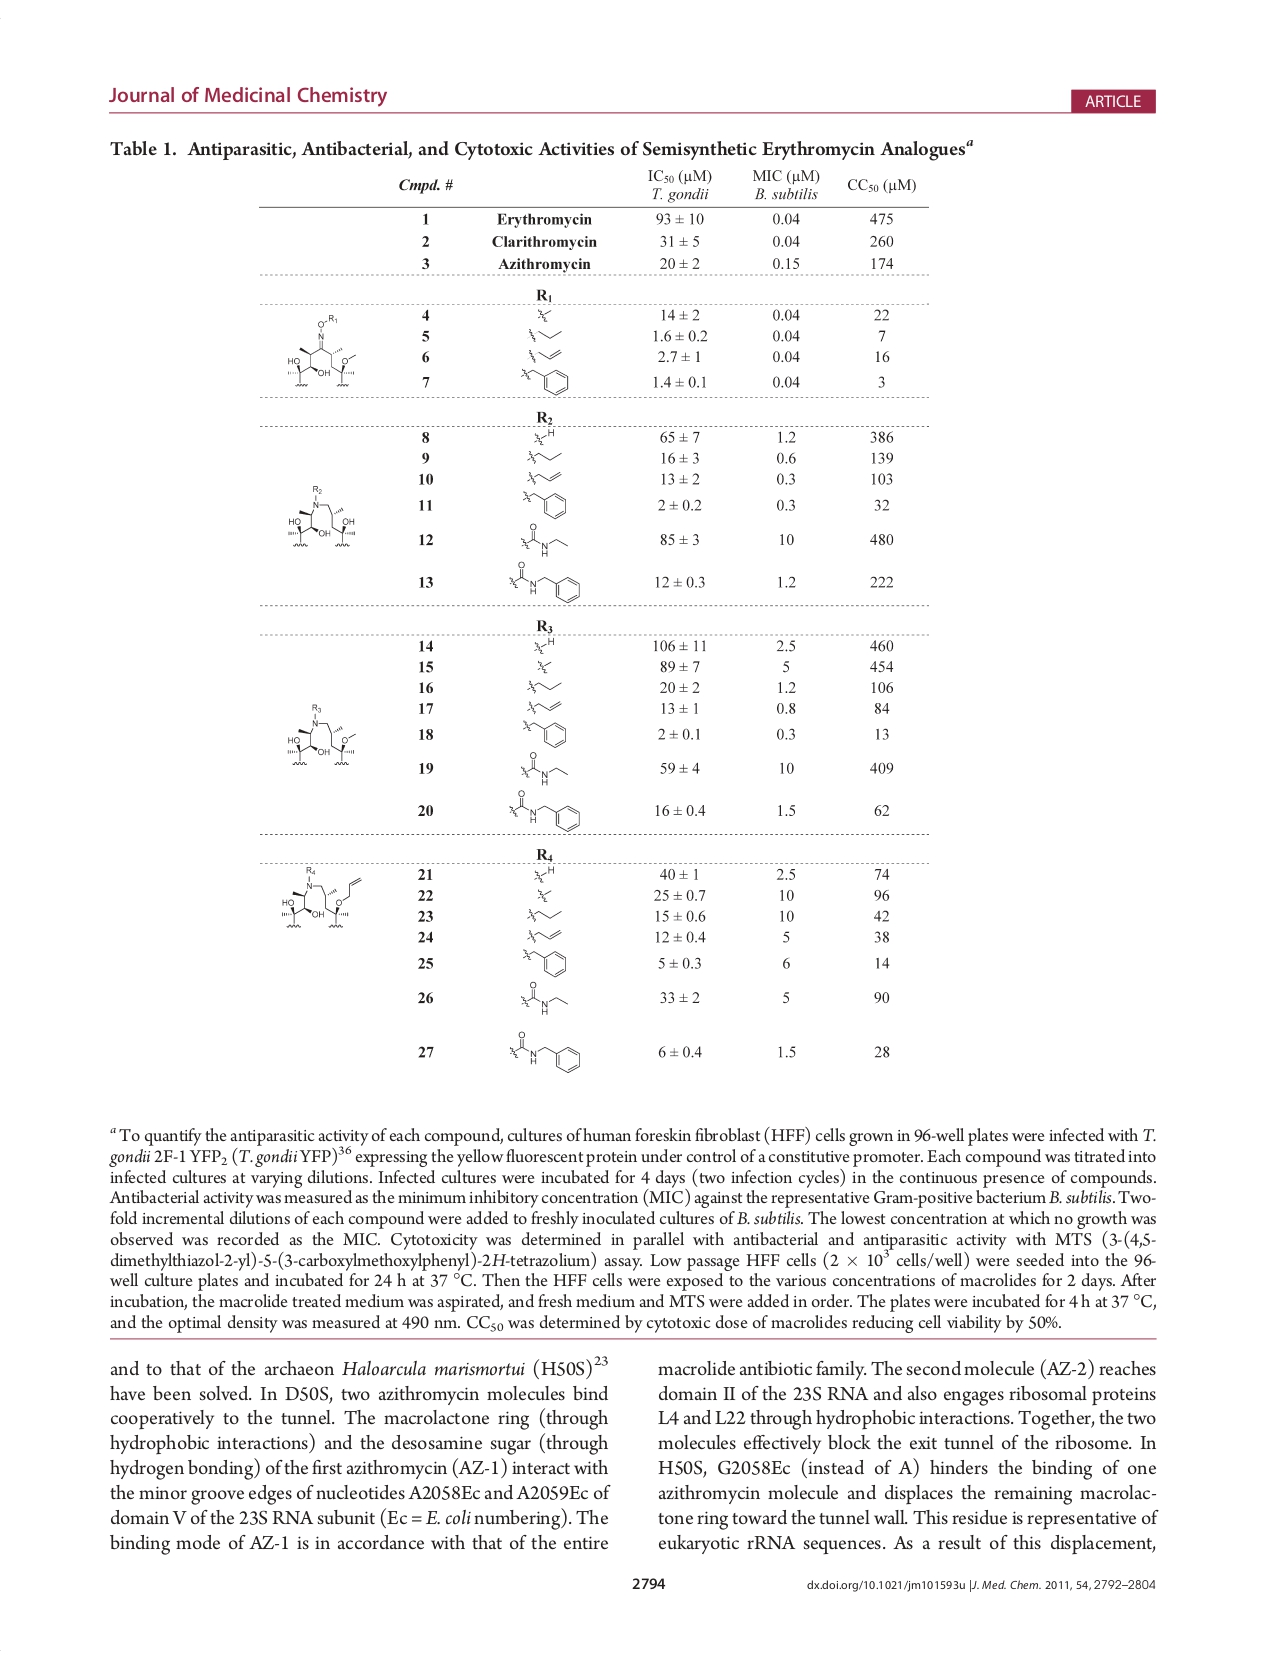exist_molecular: (285, 311, 363, 390), (278, 864, 362, 930), (285, 483, 360, 555), (281, 701, 356, 771), (505, 1029, 582, 1075), (507, 789, 584, 833), (508, 561, 582, 602), (516, 751, 570, 786), (517, 523, 568, 559), (519, 980, 569, 1016), (516, 366, 570, 395), (519, 489, 567, 521), (520, 946, 567, 977), (521, 718, 569, 749), (523, 678, 564, 696), (524, 347, 564, 364), (525, 927, 564, 944), (527, 326, 563, 343), (524, 449, 563, 465), (525, 469, 564, 485), (524, 906, 563, 922), (524, 700, 564, 714), (531, 636, 556, 656), (531, 864, 555, 884), (528, 306, 555, 323), (531, 428, 556, 446), (535, 657, 555, 674), (533, 886, 553, 903)
